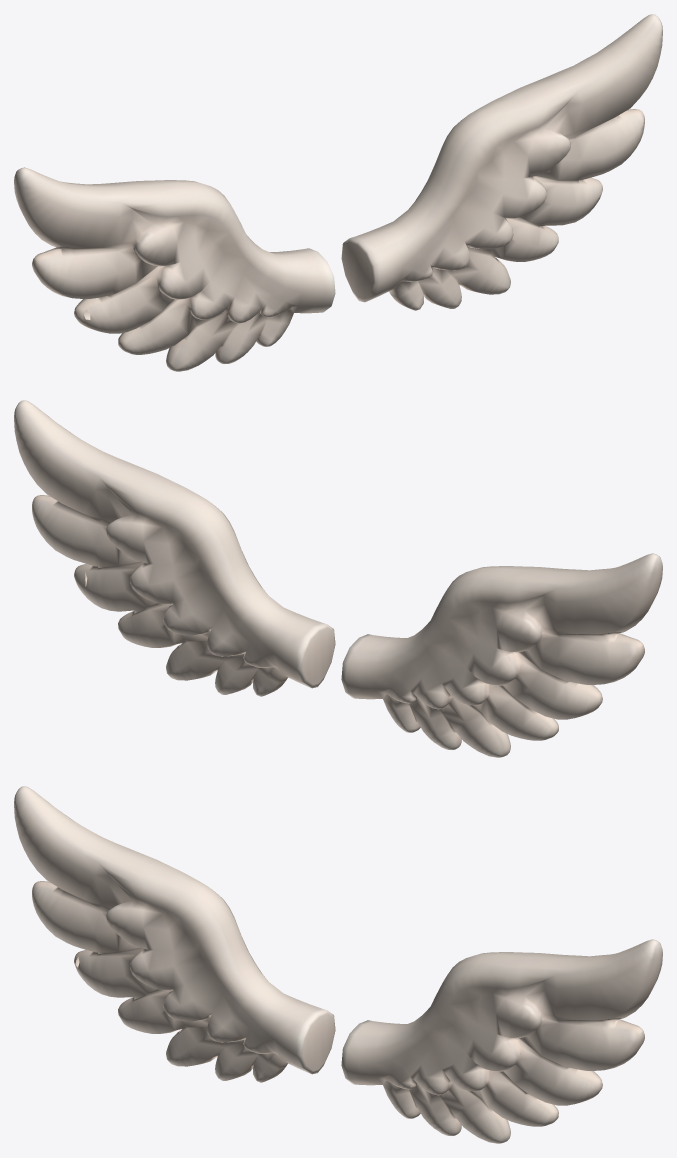
Rendered from erpin-wings.fbx.
3 views of the same model, one above another, from view 1: azimuth 30°, elevation 25°; view 2: azimuth 150°, elevation 25°; view 3: azimuth 330°, elevation 25° (orthographic).
Parts seen in each view (by area): view 1: tripo_node_5dfae4b4-c8d1-4532-87ca-fb0aaa606565; view 2: tripo_node_5dfae4b4-c8d1-4532-87ca-fb0aaa606565; view 3: tripo_node_5dfae4b4-c8d1-4532-87ca-fb0aaa606565.
Boxes of the visible parts, x1=… form: tripo_node_5dfae4b4-c8d1-4532-87ca-fb0aaa606565: x1=14, y1=14, x2=662, y2=371; tripo_node_5dfae4b4-c8d1-4532-87ca-fb0aaa606565: x1=14, y1=400, x2=662, y2=757; tripo_node_5dfae4b4-c8d1-4532-87ca-fb0aaa606565: x1=14, y1=786, x2=662, y2=1143.
Bounding box in the file's own units: 0.9995 × 0.3608 × 0.1011.
1 material, 1 textured.
